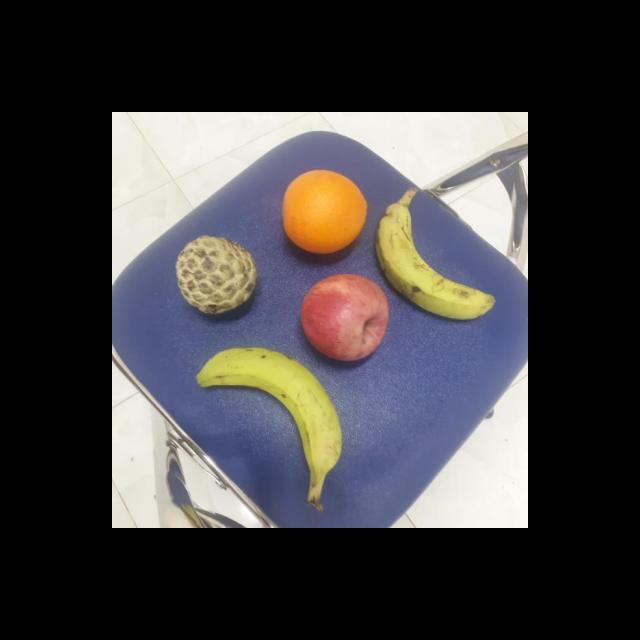Sakya fruit: (174, 234, 261, 317)
apple: (296, 272, 390, 362)
banana: (192, 344, 346, 484), (376, 200, 498, 324)
orange: (279, 167, 369, 256)
